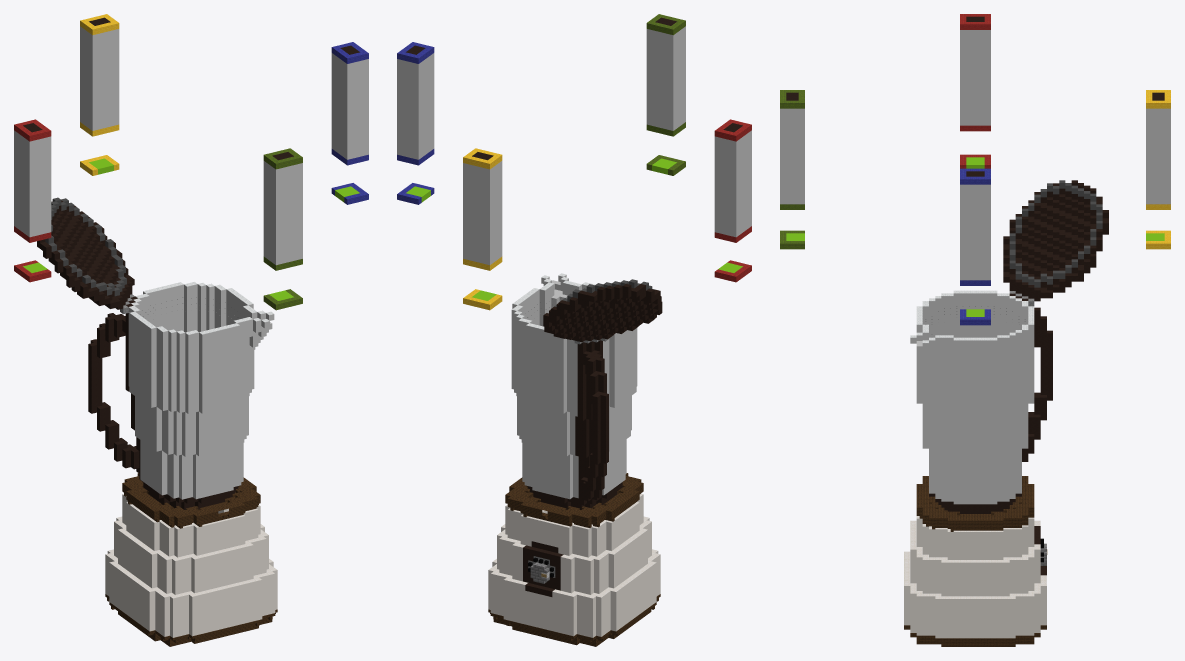
File: minecraft.obj
3 renders of one model, left to right at view 1: azimuth 30°, elevation 25°; view 2: azimuth 150°, elevation 25°; view 3: azimuth 270°, elevation 25°, orthographic.
Size of the model in its own units: 63 by 93 by 63.
